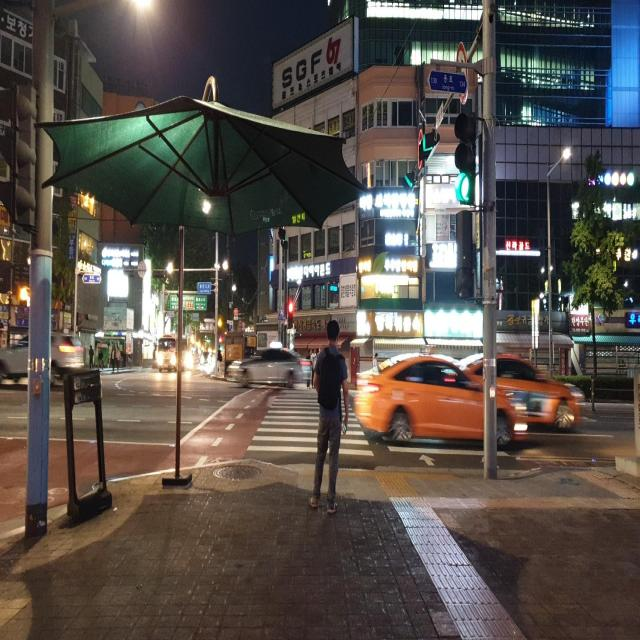빨간불: (287, 298, 295, 330)
횡단보도: (246, 389, 511, 470)
